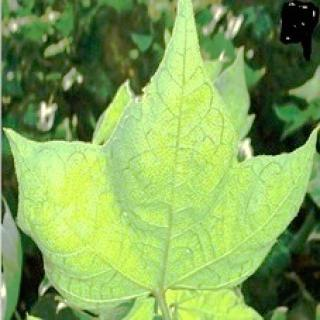curl: (5, 49, 305, 300)
